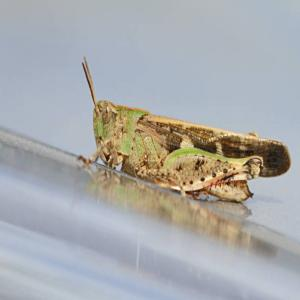locust: (80, 59, 292, 210)
